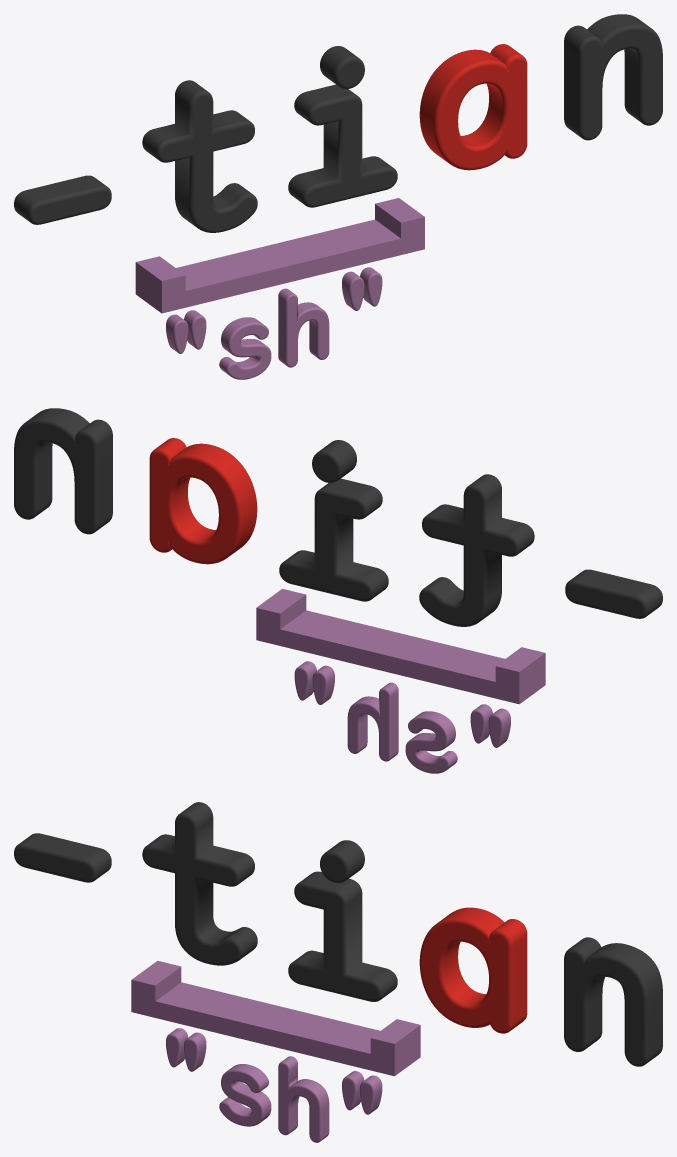
The model's file is -tian.gltf.
3 views of the same model, one above another, from view 1: azimuth 30°, elevation 25°; view 2: azimuth 150°, elevation 25°; view 3: azimuth 330°, elevation 25° (orthographic).
Visible parts, largest first — view 1: Cube.000, Text.006, Text.003, Text.002, Text, Text.001; view 2: Cube.000, Text.006, Text.003, Text.002, Text, Text.001; view 3: Cube.000, Text.006, Text.003, Text.002, Text, Text.001.
Part boxes in pixels (<box>): Cube.000: <box>135,198,424,313</box>; Text.006: <box>14,80,257,232</box>; Text.003: <box>419,44,527,170</box>; Text.002: <box>564,14,662,140</box>; Text: <box>288,46,397,207</box>; Text.001: <box>166,267,382,379</box>; Cube.000: <box>256,589,545,704</box>; Text.006: <box>419,474,662,626</box>; Text.003: <box>149,438,257,564</box>; Text.002: <box>14,408,112,534</box>; Text: <box>279,440,388,601</box>; Text.001: <box>294,661,510,773</box>; Cube.000: <box>131,960,420,1076</box>; Text.006: <box>14,802,257,965</box>; Text.003: <box>419,907,527,1033</box>; Text.002: <box>564,937,662,1066</box>; Text: <box>288,840,397,1001</box>; Text.001: <box>166,1028,382,1142</box>.
Size of the model in its own units: 2.68 by 1.22 by 0.1906.
